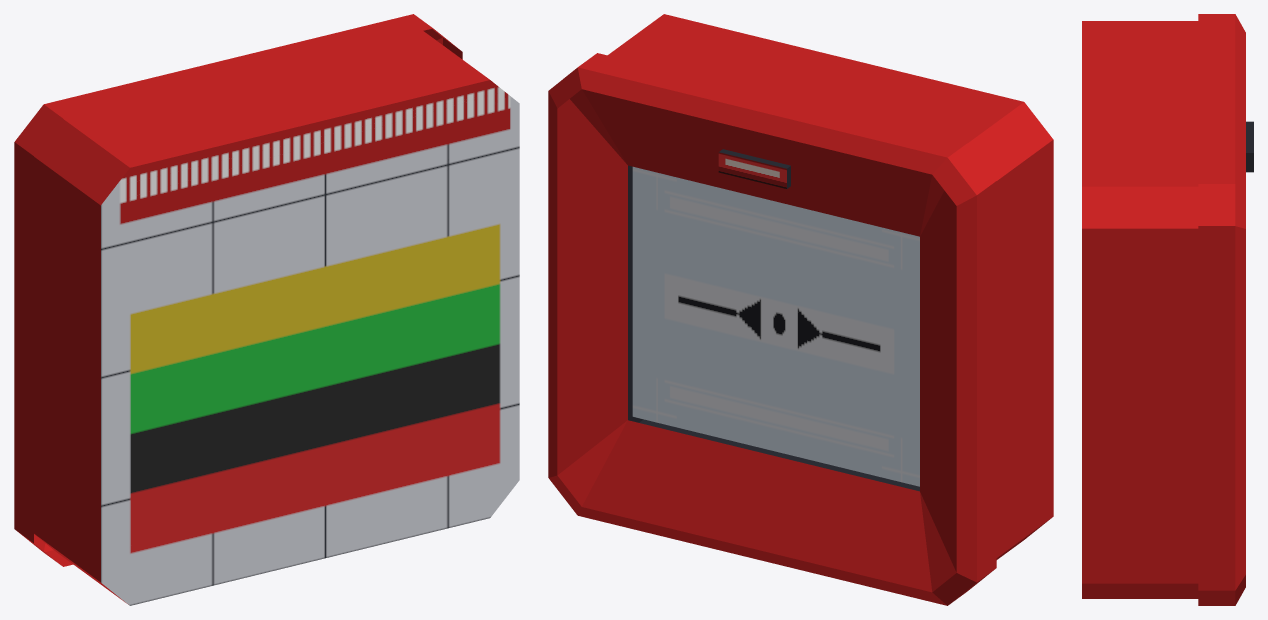
File: SEC_Emergency_Break_Glass.fbx
3 renders of one model, left to right at view 1: azimuth 30°, elevation 25°; view 2: azimuth 150°, elevation 25°; view 3: azimuth 270°, elevation 25°, orthographic. The views are drawn at different scales.
Parts seen in each view (by area): view 1: Housing, Protective_Frame; view 2: Protective_Frame, Breakable_Glass, Housing; view 3: Housing, Protective_Frame.
Part boxes in pixels (left/top/right/bottom): Housing: left=34, top=31, right=519, bottom=605; Protective_Frame: left=14, top=14, right=462, bottom=566; Protective_Frame: left=548, top=53, right=996, bottom=605; Breakable_Glass: left=632, top=166, right=919, bottom=486; Housing: left=607, top=14, right=1053, bottom=559; Housing: left=1082, top=21, right=1198, bottom=598; Protective_Frame: left=1198, top=14, right=1253, bottom=605.
Bounding box in the file's own units: 8.8 × 8.8 × 3.25.
3 materials, 3 textured.
